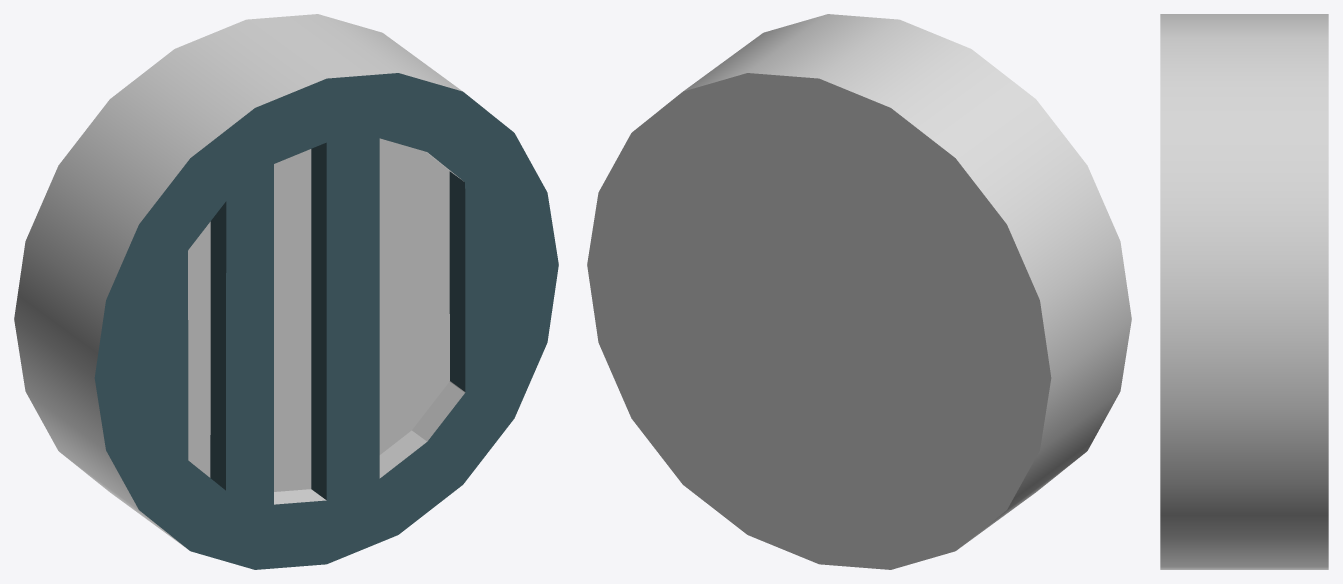
The model's file is Closed_SewerPipe.fbx.
3 renders of one model, left to right at view 1: azimuth 30°, elevation 25°; view 2: azimuth 150°, elevation 25°; view 3: azimuth 270°, elevation 25°, orthographic. The views are drawn at different scales.
Parts seen in each view (by area): view 1: Closed_Sewer_Pipe; view 2: Closed_Sewer_Pipe; view 3: Closed_Sewer_Pipe.
Boxes of the visible parts, x1,y1,x2,y2 form: Closed_Sewer_Pipe: (14,14,558,569); Closed_Sewer_Pipe: (587,14,1131,569); Closed_Sewer_Pipe: (1160,14,1328,569).
Size of the model in its own units: 38.08 by 38.08 by 11.44.
